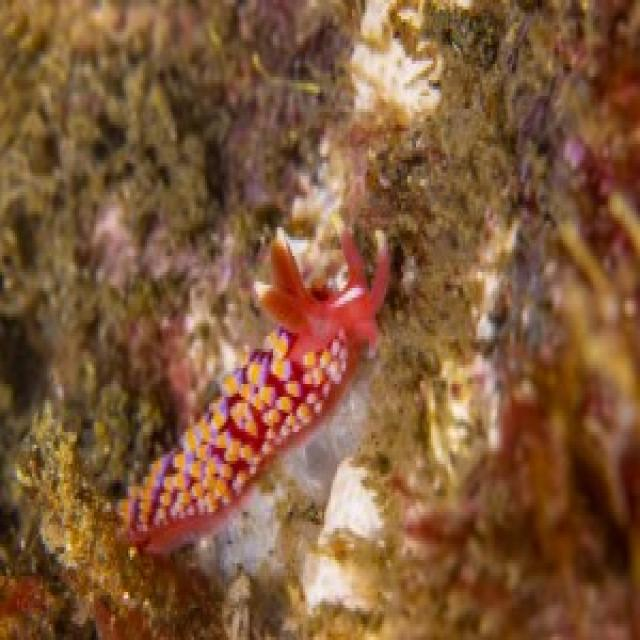Healthy: (129, 231, 389, 551)
